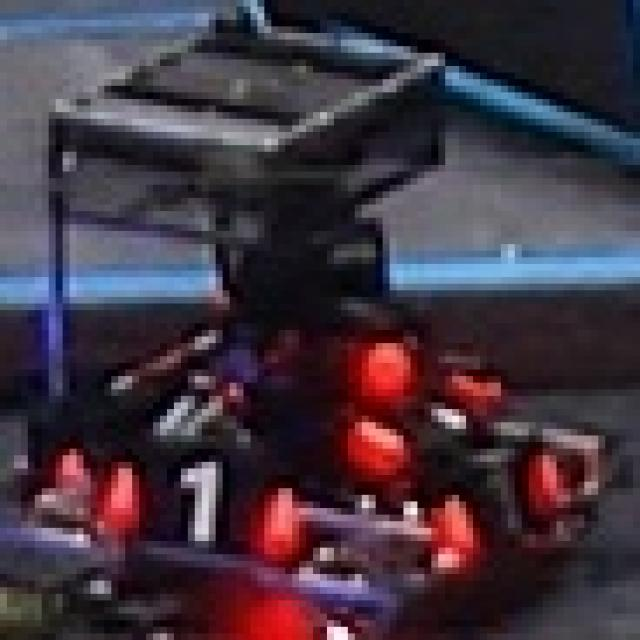R1: (98, 449, 299, 554), (438, 442, 557, 561), (355, 369, 494, 448)
